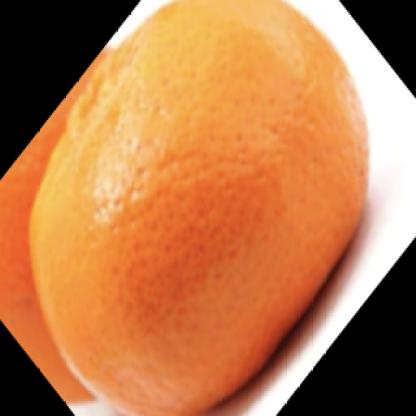fresh: (32, 5, 370, 416)
